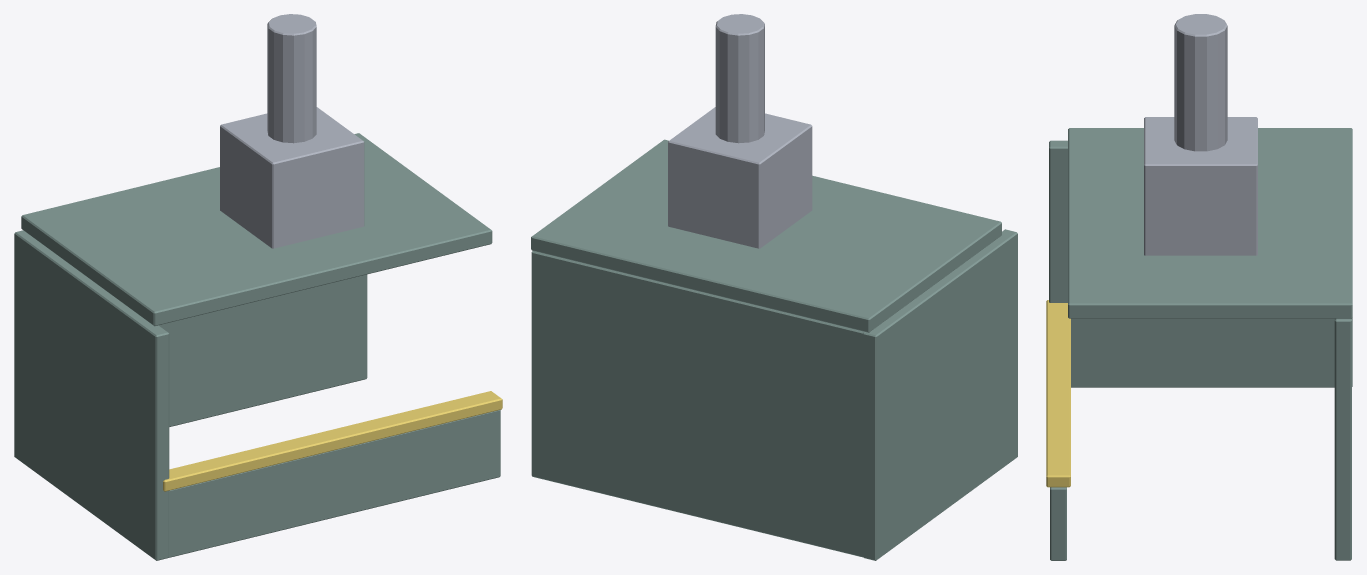
The model's file is boyahane.glb.
The picture shows the model from 3 angles, left to right: view 1: azimuth 30°, elevation 25°; view 2: azimuth 150°, elevation 25°; view 3: azimuth 270°, elevation 25°; orthographic projection. The views are drawn at different scales.
Parts seen in each view (by area): view 1: Boyahane; view 2: Boyahane; view 3: Boyahane.
Boxes of the visible parts, <box> form: Boyahane: <box>14,14,502,560</box>; Boyahane: <box>531,14,1017,560</box>; Boyahane: <box>1046,14,1352,560</box>.
Size of the model in its own units: 8.98 by 10.81 by 6.46.
